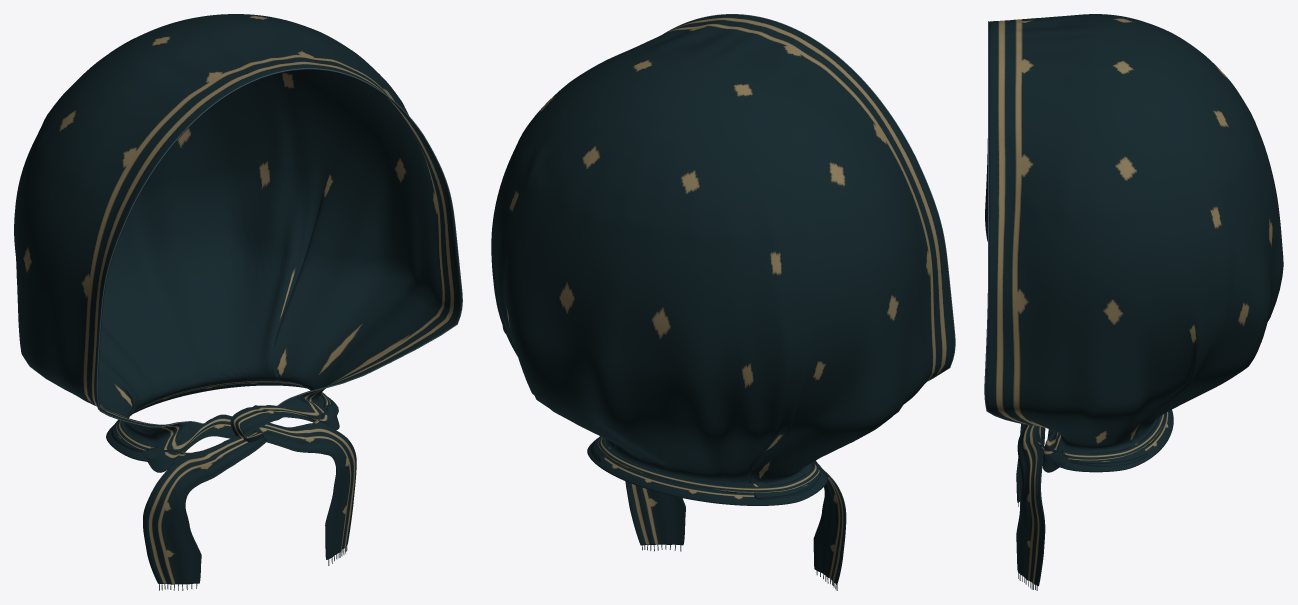
File: Masculine-sweatshirt-pashmina243-headgear.glb
3 renders of one model, left to right at view 1: azimuth 30°, elevation 25°; view 2: azimuth 150°, elevation 25°; view 3: azimuth 270°, elevation 25°, orthographic. The views are drawn at different scales.
Parts seen in each view (by area): view 1: 226 headgear / Headwear / continuous woven pashmina239, 226 headgear / Headwear / face edge239; view 2: 226 headgear / Headwear / continuous woven pashmina239, 226 headgear / Headwear / face edge239; view 3: 226 headgear / Headwear / continuous woven pashmina239, 226 headgear / Headwear / face edge239.
Part boxes in pixels (<box>): 226 headgear / Headwear / continuous woven pashmina239: <box>14,14,461,584</box>; 226 headgear / Headwear / face edge239: <box>96,68,462,427</box>; 226 headgear / Headwear / continuous woven pashmina239: <box>491,14,954,584</box>; 226 headgear / Headwear / face edge239: <box>664,14,955,380</box>; 226 headgear / Headwear / continuous woven pashmina239: <box>985,14,1283,586</box>; 226 headgear / Headwear / face edge239: <box>984,21,1032,425</box>.
Bounding box in the file's own units: 1.03 × 1.35 × 0.7127.
Materials: 3 (1 with a texture image).
